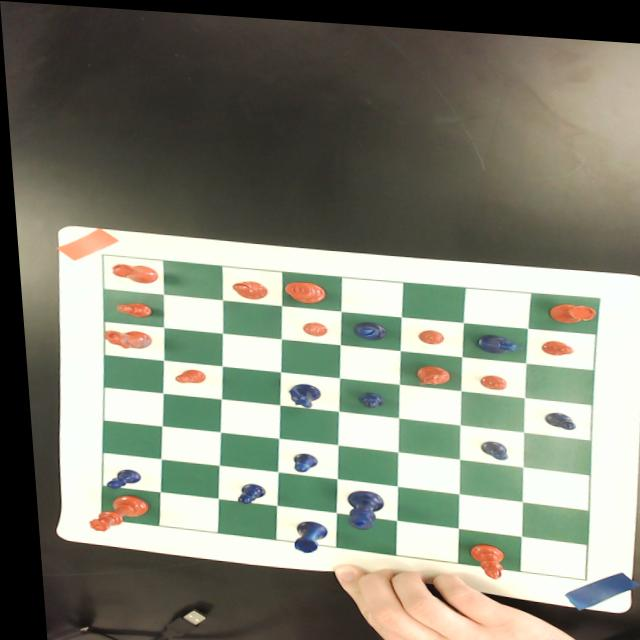B: (347, 315, 384, 336)
K: (337, 483, 379, 525)
N: (471, 327, 519, 347), (282, 378, 318, 404)
P: (95, 466, 135, 490), (227, 478, 260, 502), (471, 433, 505, 454), (536, 403, 571, 423), (283, 448, 312, 469), (349, 386, 381, 403)
R: (282, 516, 322, 552)
b: (461, 537, 497, 573), (226, 276, 263, 296)
cb: (93, 253, 596, 571)
k: (278, 276, 324, 300)
n: (95, 326, 148, 349), (409, 356, 448, 382)
p: (534, 330, 570, 350), (168, 364, 202, 384), (110, 299, 150, 316), (475, 367, 502, 383), (297, 316, 324, 332), (413, 323, 440, 338)
q: (78, 491, 144, 532)
r: (544, 294, 593, 316), (106, 261, 155, 282)
